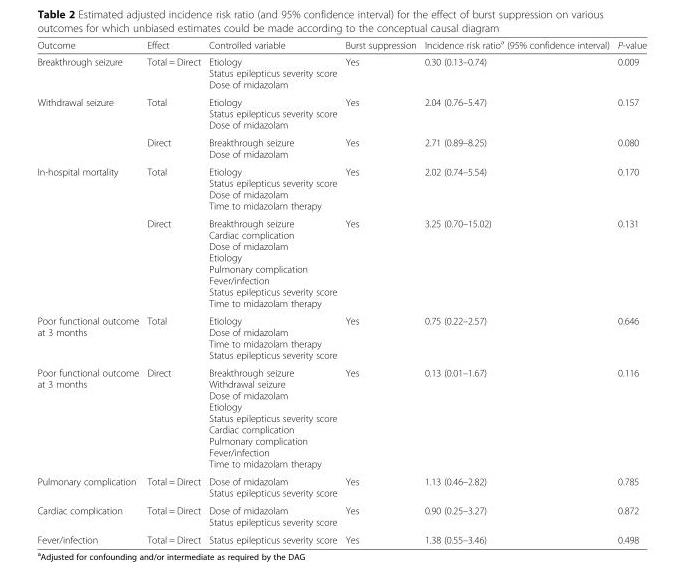table: (36, 37, 646, 544)
table column: (419, 37, 612, 544), (204, 37, 340, 544), (36, 37, 142, 544), (340, 37, 419, 544), (142, 37, 204, 544), (612, 37, 646, 544)
table column header: (36, 37, 646, 52)
table row: (36, 363, 646, 472), (36, 214, 646, 311), (36, 162, 646, 214), (36, 311, 646, 363), (36, 92, 646, 133), (36, 52, 646, 92), (36, 133, 646, 162), (36, 472, 646, 501), (36, 501, 646, 530), (36, 37, 646, 52), (36, 530, 646, 544)
table spanning cell: (36, 162, 142, 311), (36, 92, 142, 162)
